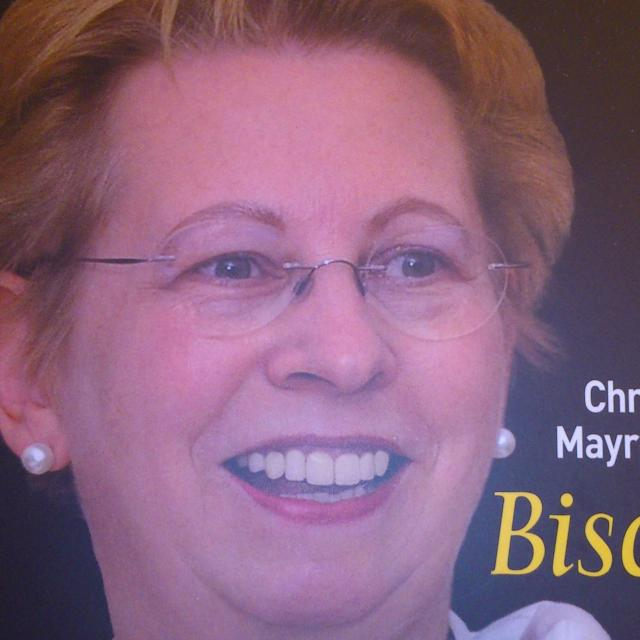Normal: (62, 30, 519, 640)
